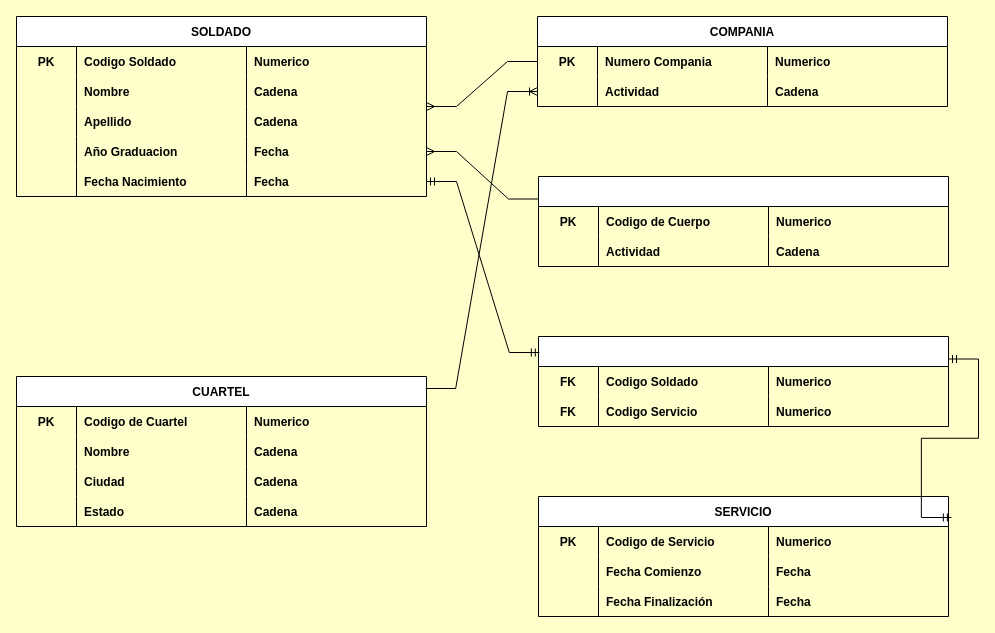
Some shapes in this 995 by 633 pixel diagram are drawn without their labels. The shapes that lost their labels are listed below. From the top down, each one's box as (x1, y1, x2, y2) in pixels, then its label:
(538, 176, 948, 266): CUERPO DE EJERCITO
(538, 336, 948, 426): REALIZAR
